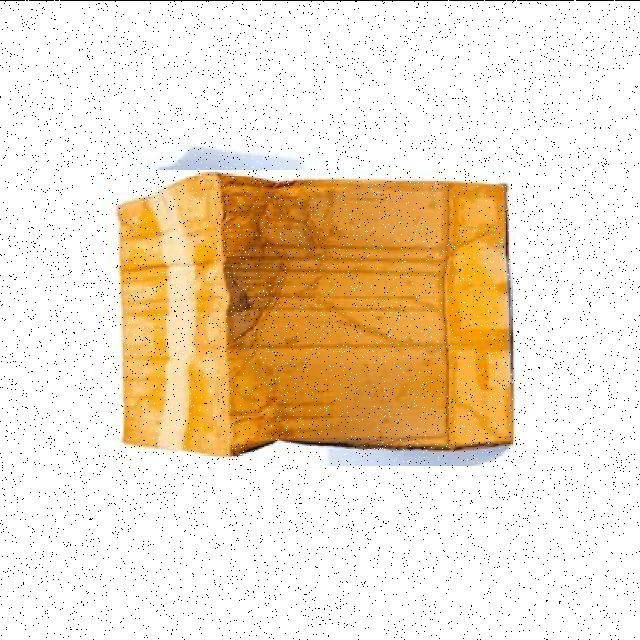defect: (112, 169, 520, 465)
